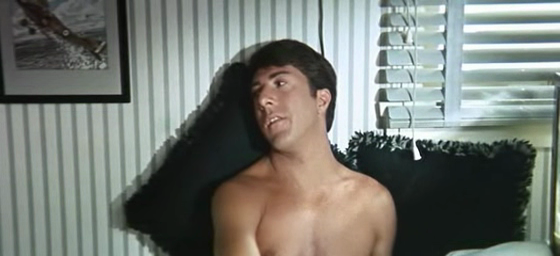face: (251, 67, 308, 151)
mcu: (1, 1, 560, 256)
person: (210, 38, 397, 256)
